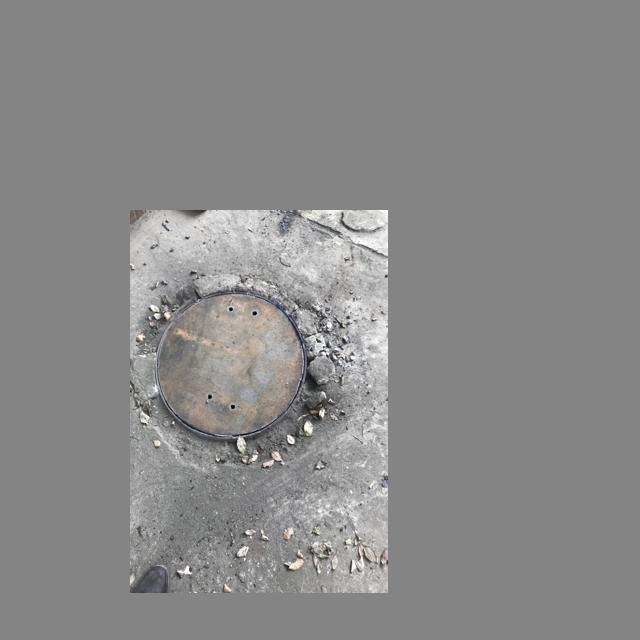circle: (137, 269, 357, 480)
